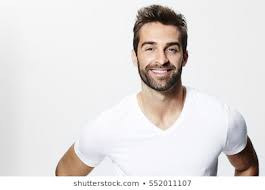white_male: (137, 13, 184, 92)
